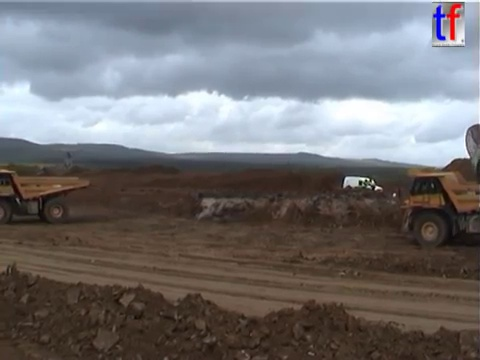excavator: (463, 121, 480, 175)
truck: (390, 165, 480, 250), (1, 166, 91, 225)
worker: (368, 175, 377, 198), (361, 177, 369, 197)
